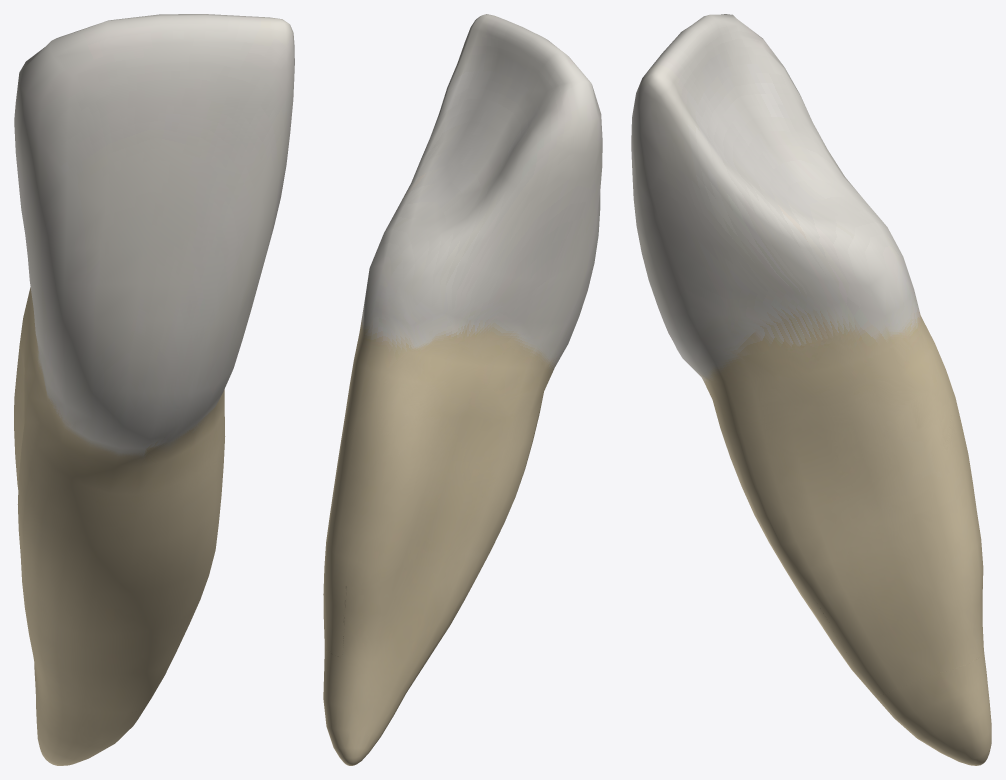
The model's file is tooth-42.glb.
3 renders of one model, left to right at view 1: azimuth 30°, elevation 25°; view 2: azimuth 150°, elevation 25°; view 3: azimuth 270°, elevation 25°, orthographic. The views are drawn at different scales.
Parts seen in each view (by area): view 1: ZBrushPolyMesh3D6_Mandible_l2_0; view 2: ZBrushPolyMesh3D6_Mandible_l2_0; view 3: ZBrushPolyMesh3D6_Mandible_l2_0.
Boxes of the visible parts, x1,y1,x2,y2 form: ZBrushPolyMesh3D6_Mandible_l2_0: (14, 14, 294, 765); ZBrushPolyMesh3D6_Mandible_l2_0: (323, 14, 602, 765); ZBrushPolyMesh3D6_Mandible_l2_0: (631, 14, 991, 765).
Size of the model in its own units: 0.1958 by 0.6841 by 0.3166.
Materials: 1 (1 with a texture image).
